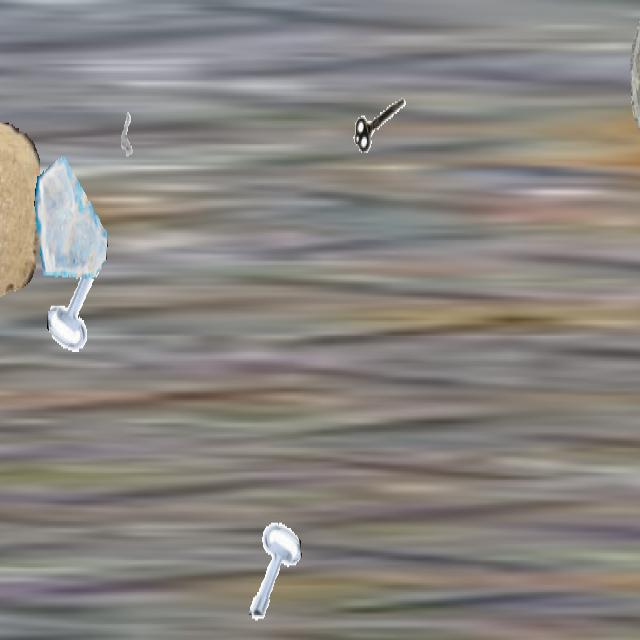glass: (34, 151, 108, 283), (625, 2, 640, 165)
metal: (47, 247, 109, 357), (242, 516, 302, 622), (351, 74, 409, 178), (108, 92, 146, 160)
wood: (0, 119, 39, 336)
